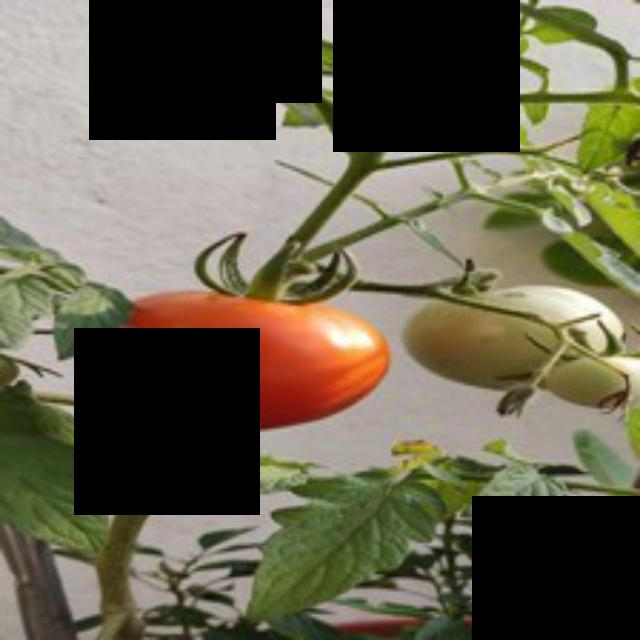tomato: (51, 283, 402, 438)
